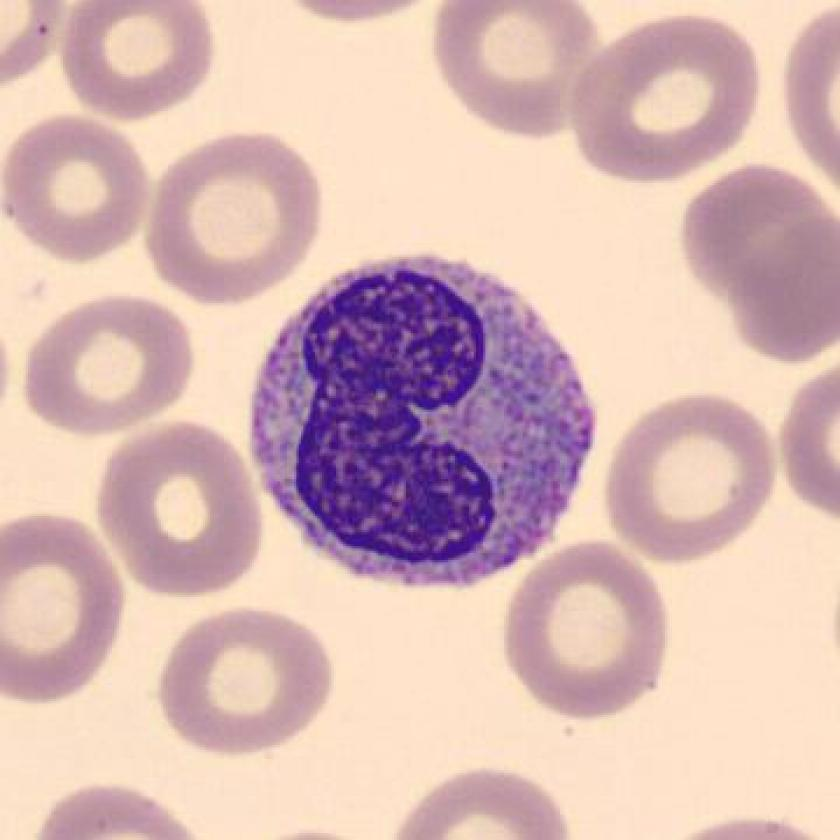monocyte: (230, 226, 612, 621)
